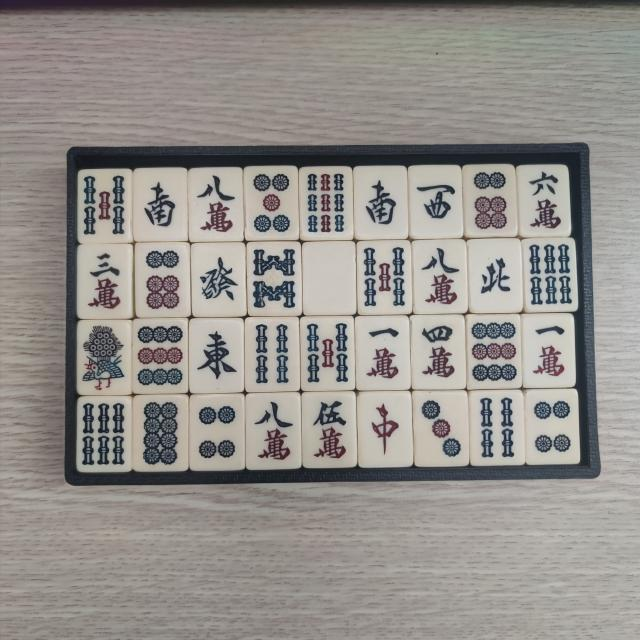hdg: (196, 248, 240, 312)
hdr: (363, 396, 406, 462)
hdw: (308, 248, 352, 312)
hwe: (194, 325, 239, 389)
hwn: (473, 244, 517, 308)
hws: (138, 172, 182, 236), (358, 170, 402, 233)
hww: (416, 170, 462, 234)
sb1: (82, 324, 128, 392)
sb4: (251, 321, 296, 388), (475, 394, 519, 461)
sb5: (359, 242, 406, 310), (81, 173, 127, 239), (308, 322, 353, 389)
sb6: (528, 243, 575, 310), (83, 400, 129, 468)
sb8: (252, 246, 299, 314)
sb9: (304, 172, 348, 236)
sc1: (528, 319, 570, 384), (362, 321, 404, 385)
sc3: (82, 248, 126, 314)
sc4: (416, 320, 460, 384)
sc5: (308, 395, 354, 463)
sc6: (522, 168, 566, 232)
sc8: (252, 396, 298, 464), (419, 243, 465, 310), (193, 174, 240, 238)
sd3: (417, 396, 462, 460)
sd4: (194, 400, 240, 464), (532, 394, 576, 460)
sd5: (250, 171, 296, 238)
sd6: (469, 170, 514, 233), (140, 248, 182, 312)
sd8: (137, 400, 182, 468)
sd9: (134, 322, 184, 389), (471, 318, 518, 384)
